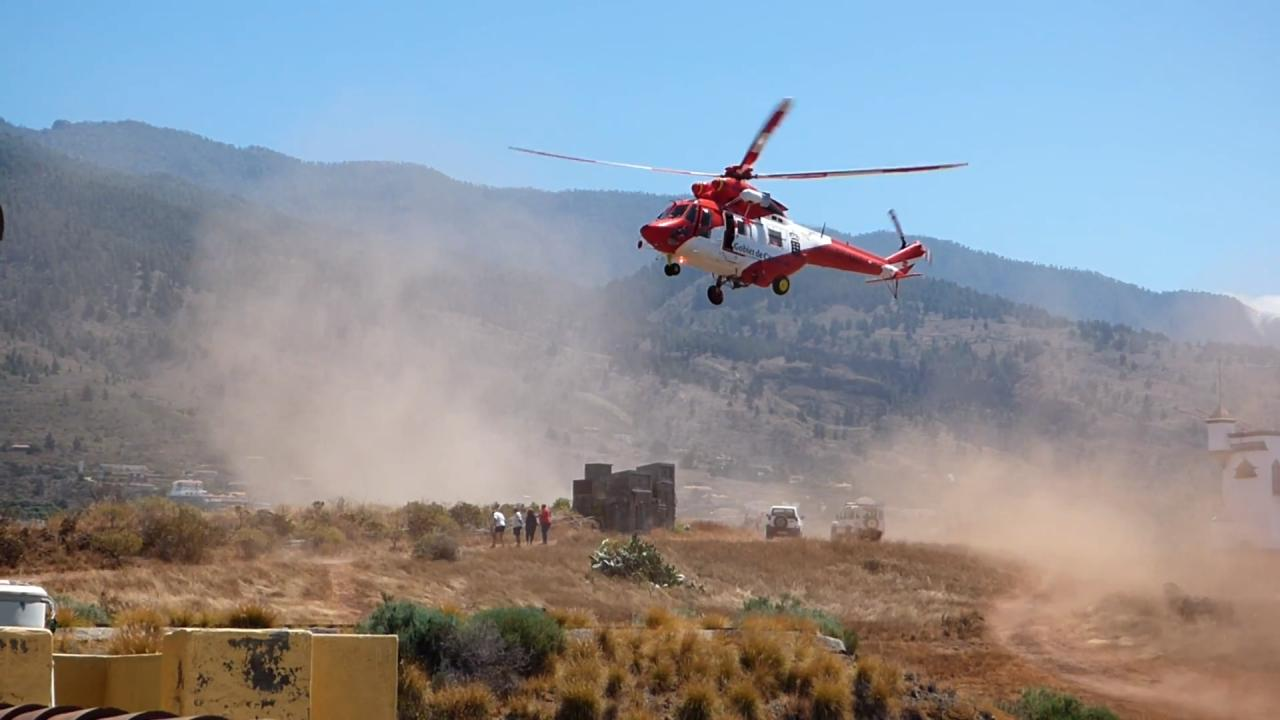Helicopter: (489, 85, 982, 312)
